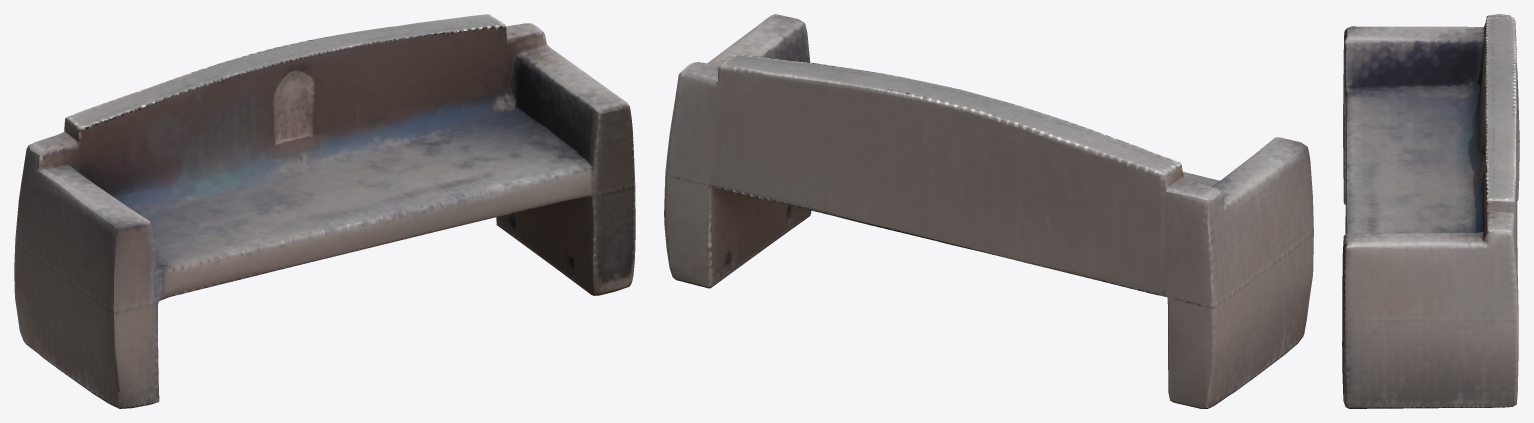
3 views of the same model, side by side, from view 1: azimuth 30°, elevation 25°; view 2: azimuth 150°, elevation 25°; view 3: azimuth 270°, elevation 25° (orthographic). The views are drawn at different scales.
Visible parts, largest first — view 1: bench01; view 2: bench01; view 3: bench01.
Part boxes in pixels (x1=…): bench01: x1=14, y1=14, x2=635, y2=408; bench01: x1=664, y1=14, x2=1313, y2=408; bench01: x1=1342, y1=14, x2=1519, y2=408.
Bounding box in the file's own units: 1.89 × 0.8004 × 0.625.
1 material, 1 textured.
